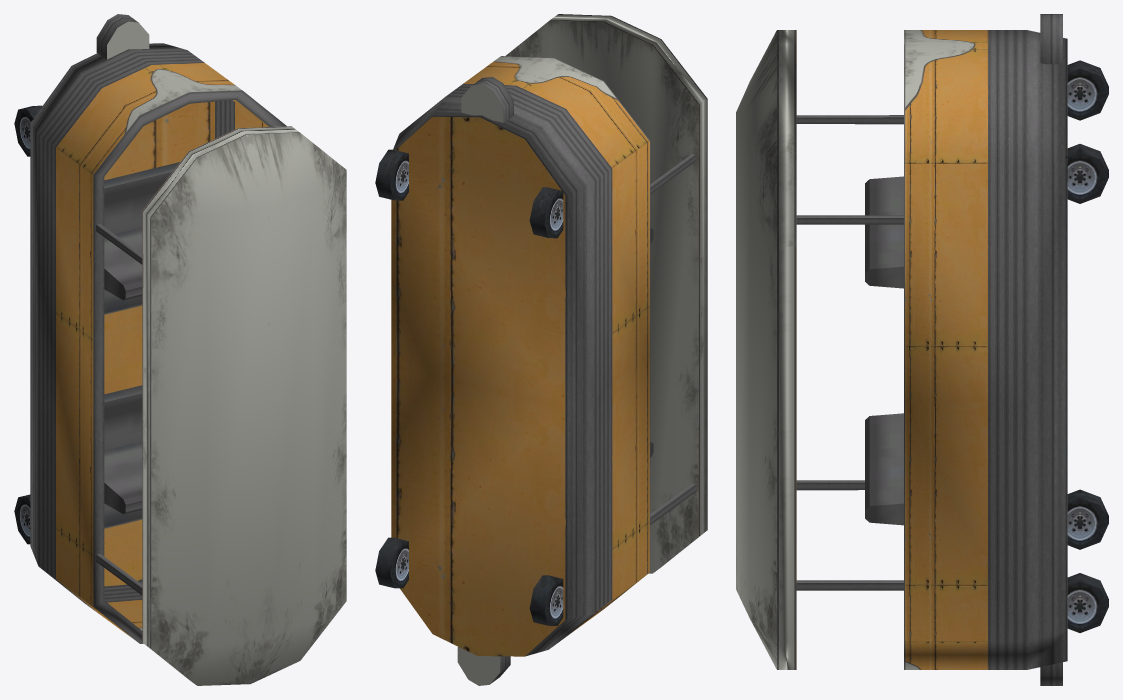
File: nt_2020_vista_cart_01_LOD0.obj
3 renders of one model, left to right at view 1: azimuth 30°, elevation 25°; view 2: azimuth 150°, elevation 25°; view 3: azimuth 270°, elevation 25°, orthographic. The views are drawn at different scales.
Visible parts, largest first — view 1: mtl_nt_2020_vista_cart; view 2: mtl_nt_2020_vista_cart; view 3: mtl_nt_2020_vista_cart.
Boxes of the visible parts, box(x1,y1,x2,y2) form: mtl_nt_2020_vista_cart: box(14, 14, 346, 685); mtl_nt_2020_vista_cart: box(375, 14, 707, 685); mtl_nt_2020_vista_cart: box(736, 14, 1108, 685).
Size of the model in its own units: 140 by 411 by 208.
